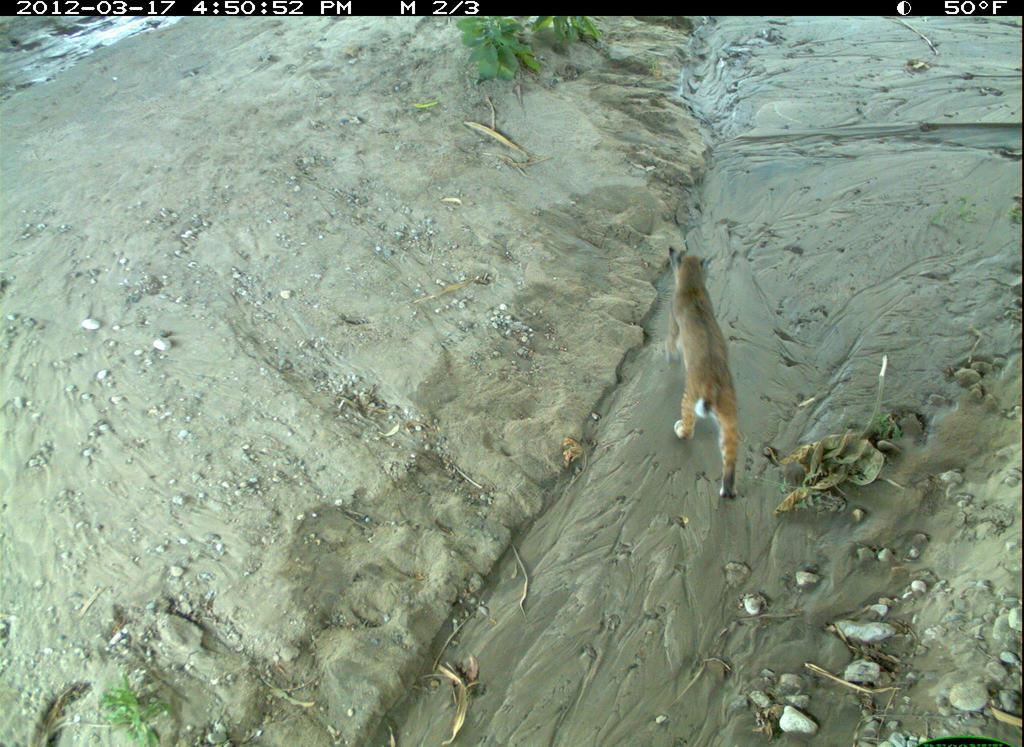bobcat: (655, 241, 751, 513)
